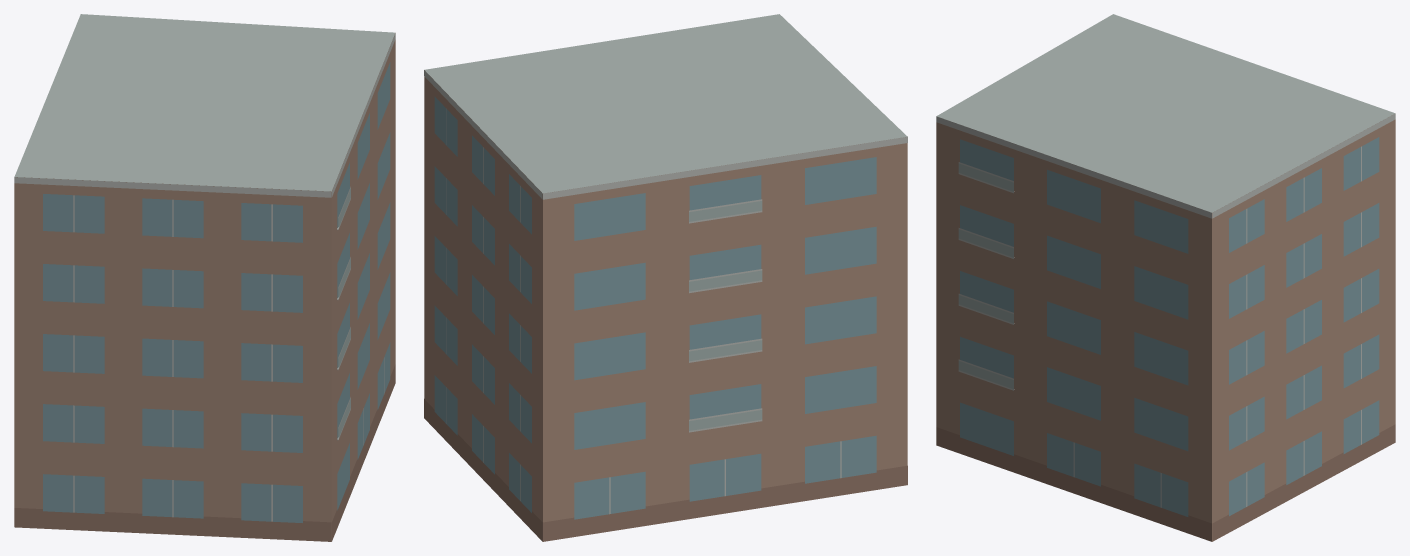
File: survey-upis-32980600.glb
The picture shows the model from 3 angles, left to right: view 1: azimuth 30°, elevation 25°; view 2: azimuth 150°, elevation 25°; view 3: azimuth 270°, elevation 25°; orthographic projection. The views are drawn at different scales.
Parts seen in each view (by area): view 1: survey-upis-32980600.tmp; view 2: survey-upis-32980600.tmp; view 3: survey-upis-32980600.tmp.
Part boxes in pixels (<box>): survey-upis-32980600.tmp: <box>14,14,395,541</box>; survey-upis-32980600.tmp: <box>424,14,907,541</box>; survey-upis-32980600.tmp: <box>936,14,1395,541</box>.
Size of the model in its own units: 17.56 by 13.55 by 17.15.
